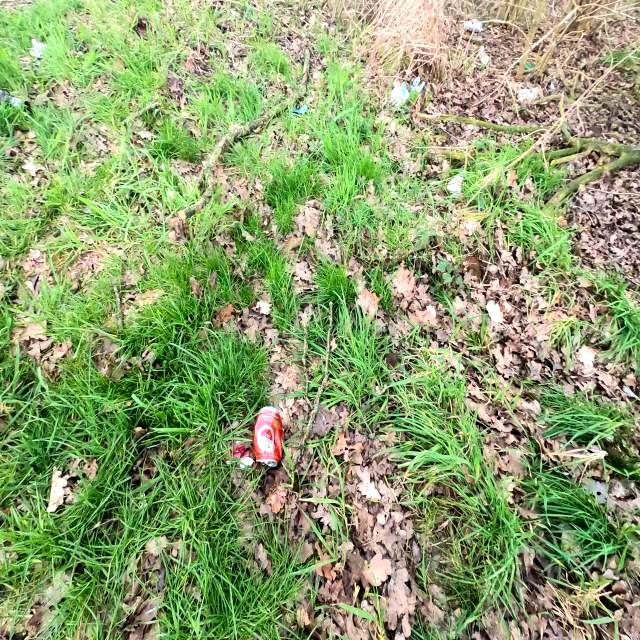Metal: (246, 394, 290, 468)
